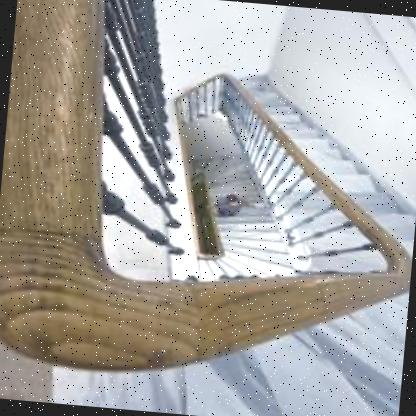stair: (203, 68, 416, 294)
